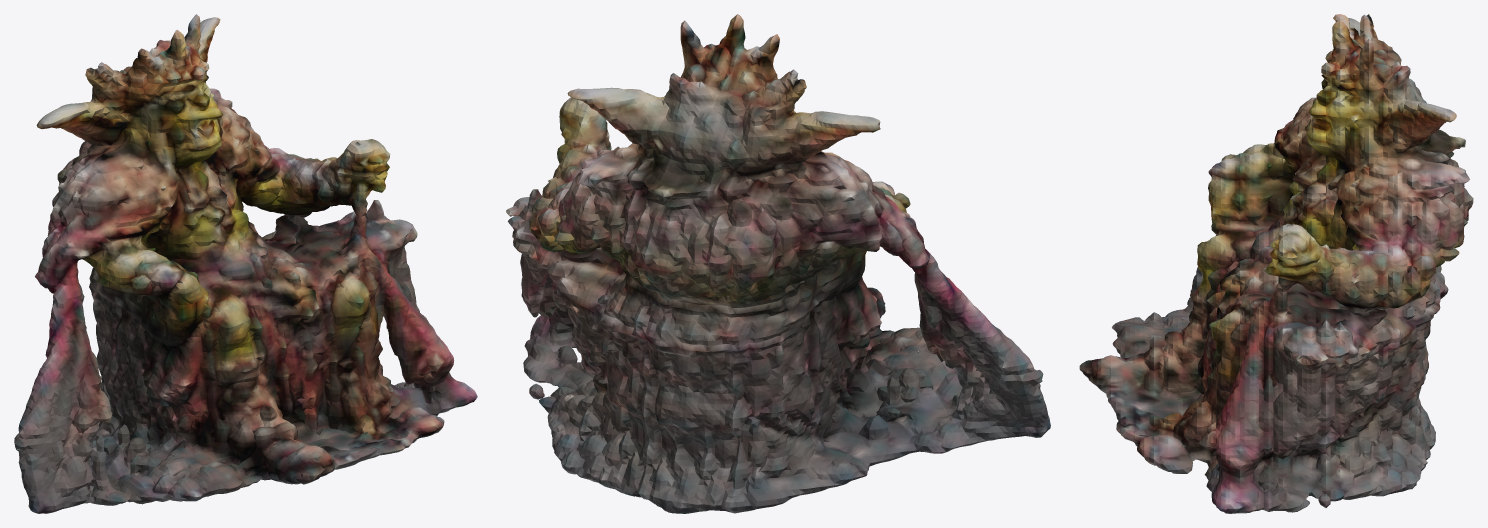
The model's file is raja_goblin.glb.
3 renders of one model, left to right at view 1: azimuth 30°, elevation 25°; view 2: azimuth 150°, elevation 25°; view 3: azimuth 270°, elevation 25°, orthographic. The views are drawn at different scales.
Parts seen in each view (by area): view 1: geometry_0; view 2: geometry_0; view 3: geometry_0.
Boxes of the visible parts, bbox=[...] form: geometry_0: bbox=[14, 14, 477, 513]; geometry_0: bbox=[506, 14, 1050, 513]; geometry_0: bbox=[1079, 14, 1473, 513].
Bounding box in the file's own units: 0.9968 × 0.8794 × 0.7513.
